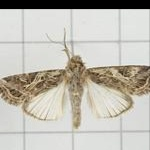Spodoptera litura: (0, 27, 149, 130)
